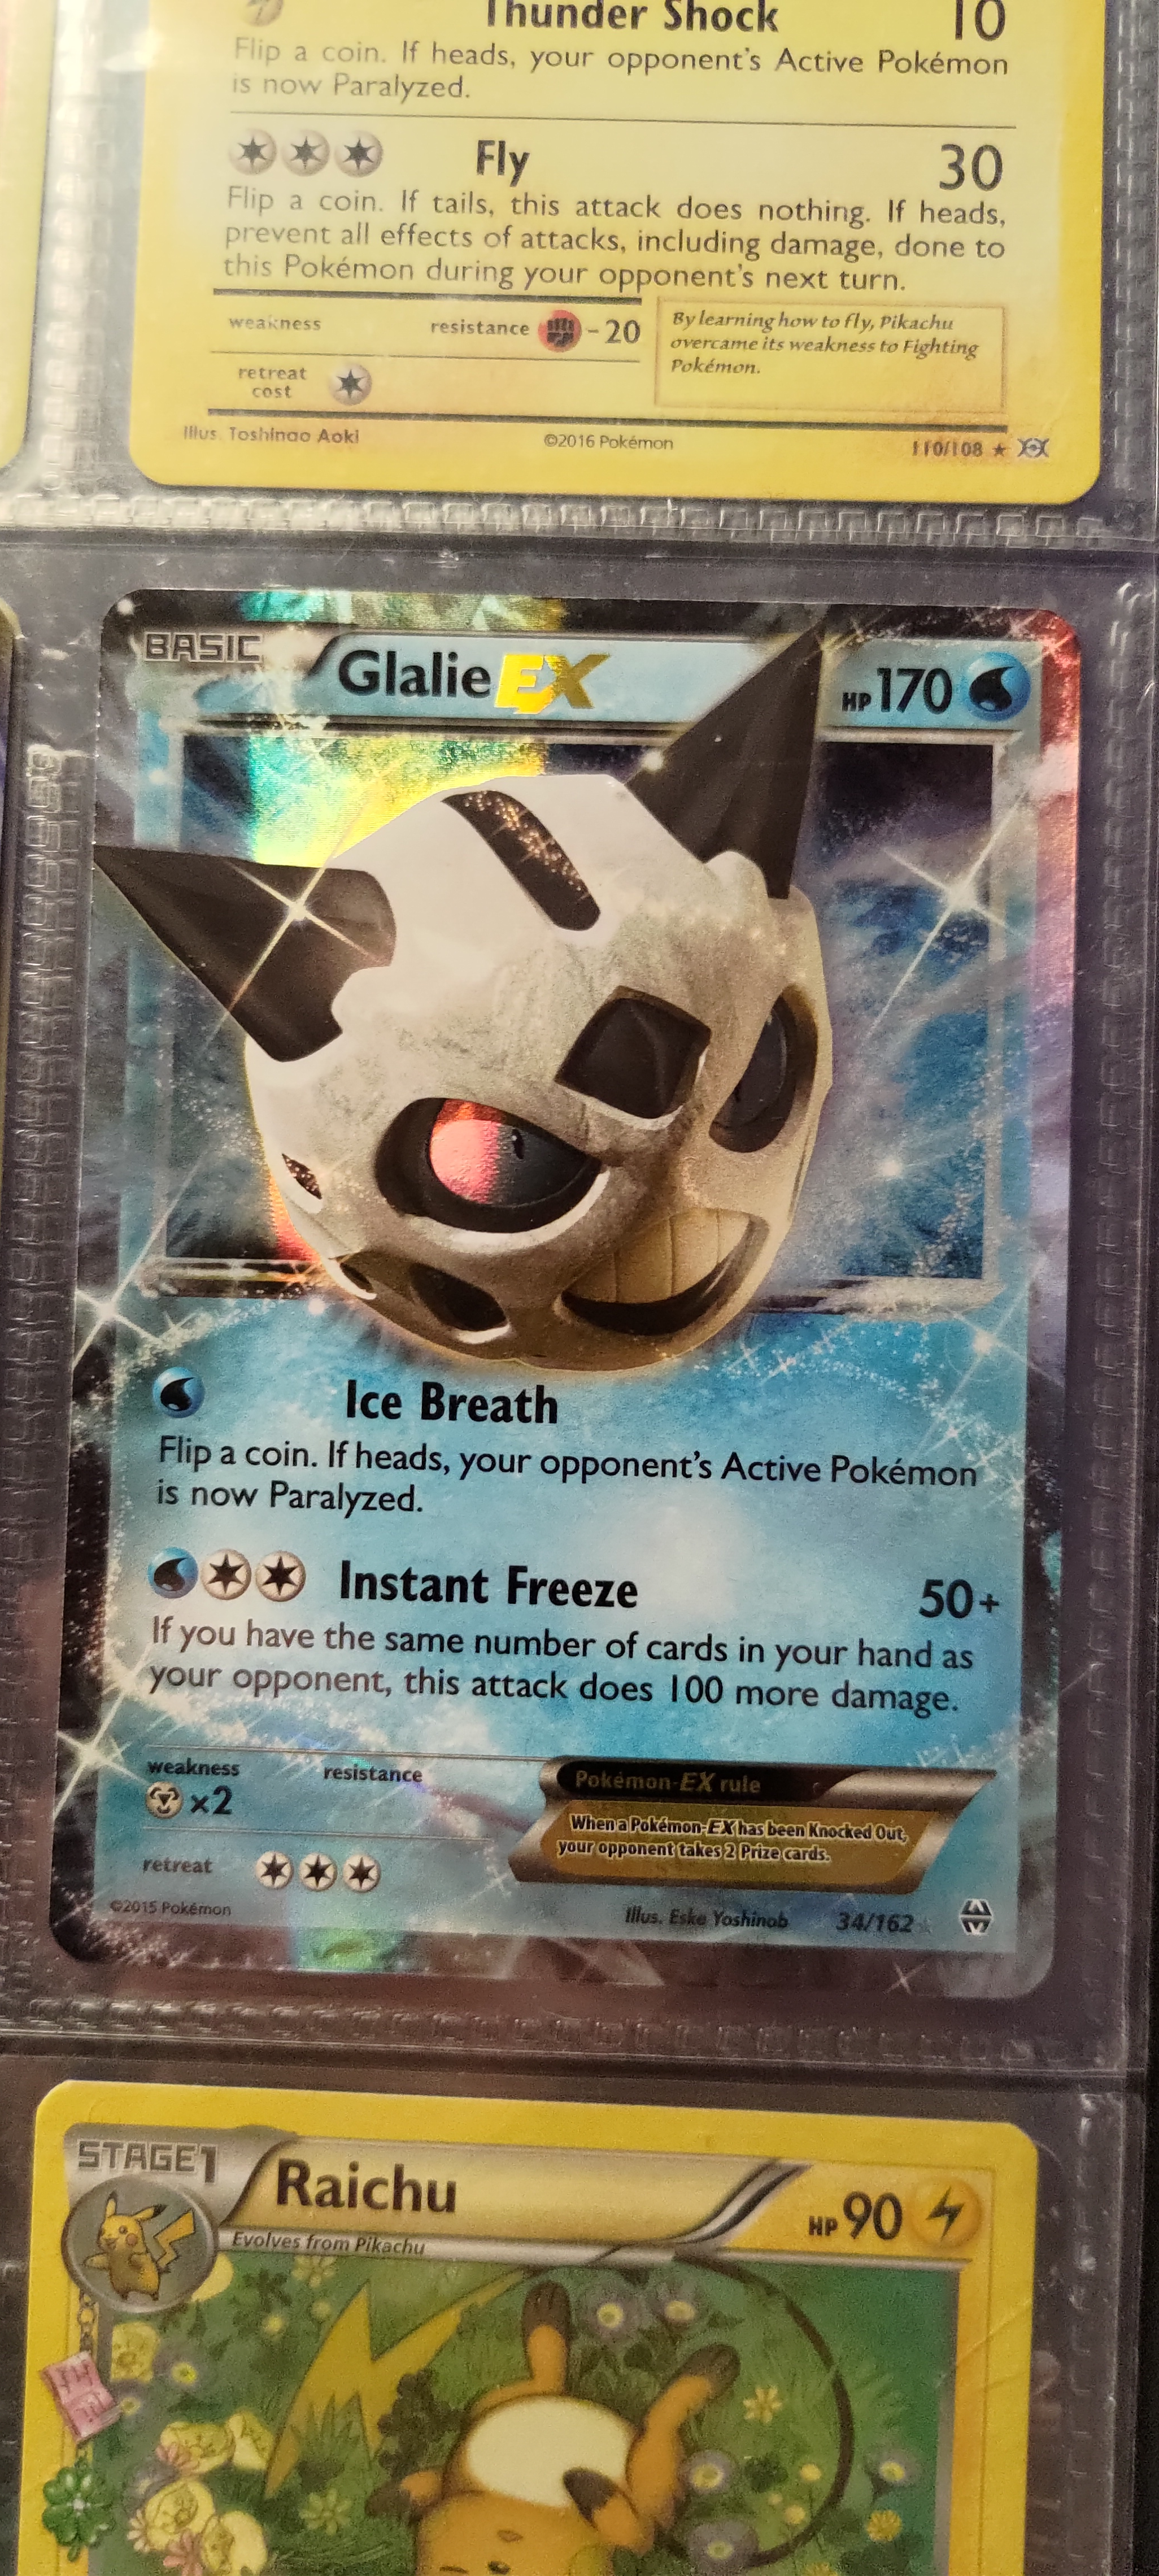pokemon_card: (44, 583, 1088, 2022)
